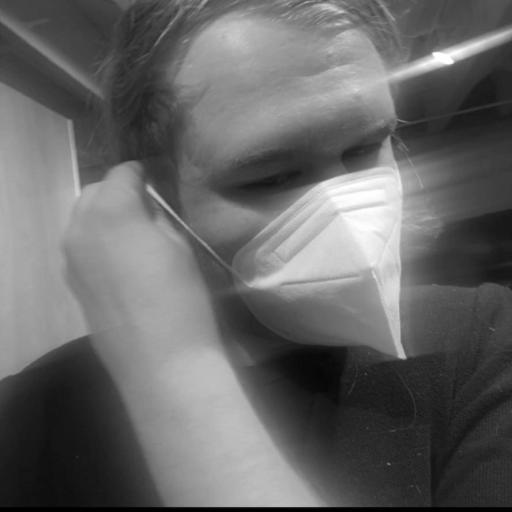mask: (93, 0, 444, 360)
